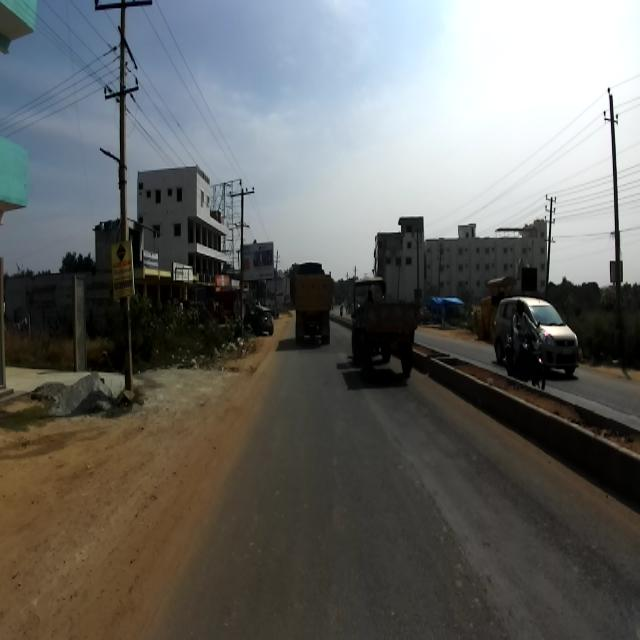electric pole ahead at: (92, 0, 153, 422)
truck ahead at: (345, 287, 424, 383), (286, 270, 335, 354)
